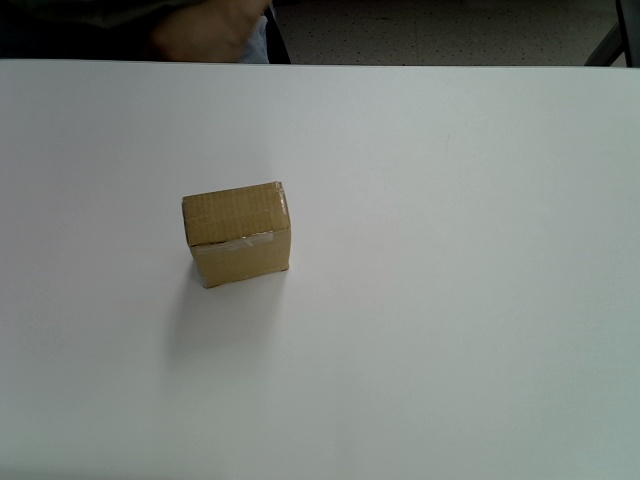normal: (181, 180, 292, 289)
